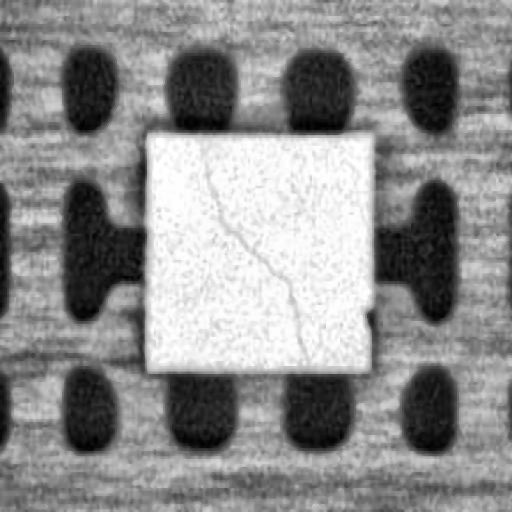DIE_CRACK: (200, 170, 305, 358)
